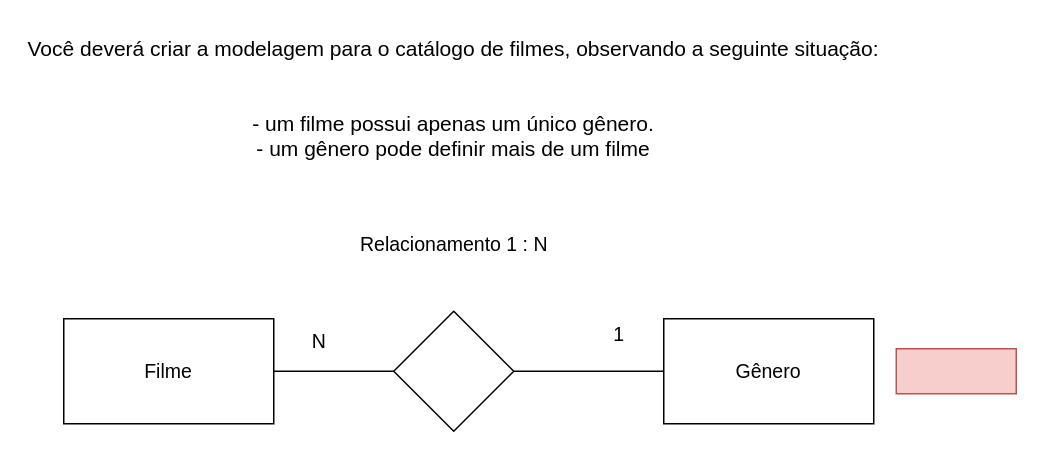
Some shapes in this 1043 by 458 pixel diagram are drawn without their labels. The shapes that lost their labels are listed below. From the top down, each one's centre as x and y in pixels, then its label:
At (x=453, y=370): "Possui".
At (x=955, y=370): "Conceitual".
